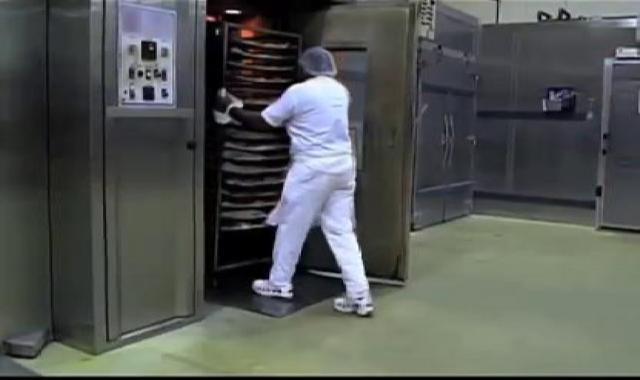hairnet: (304, 41, 352, 80)
